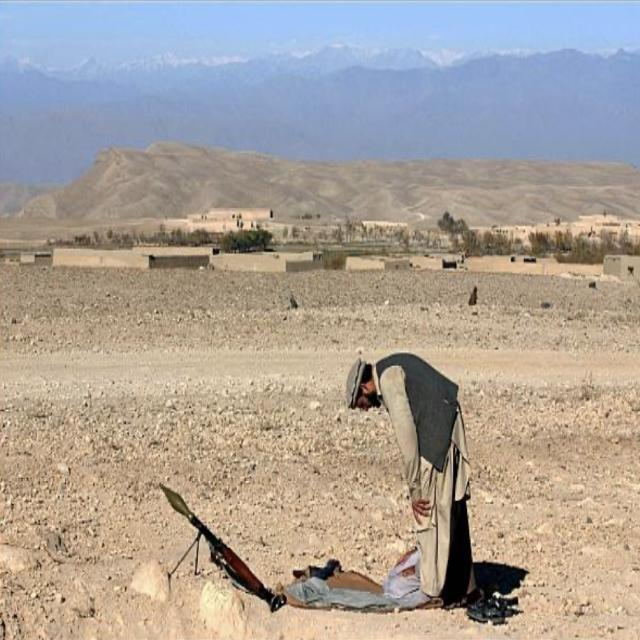bazooka: (156, 474, 289, 623)
